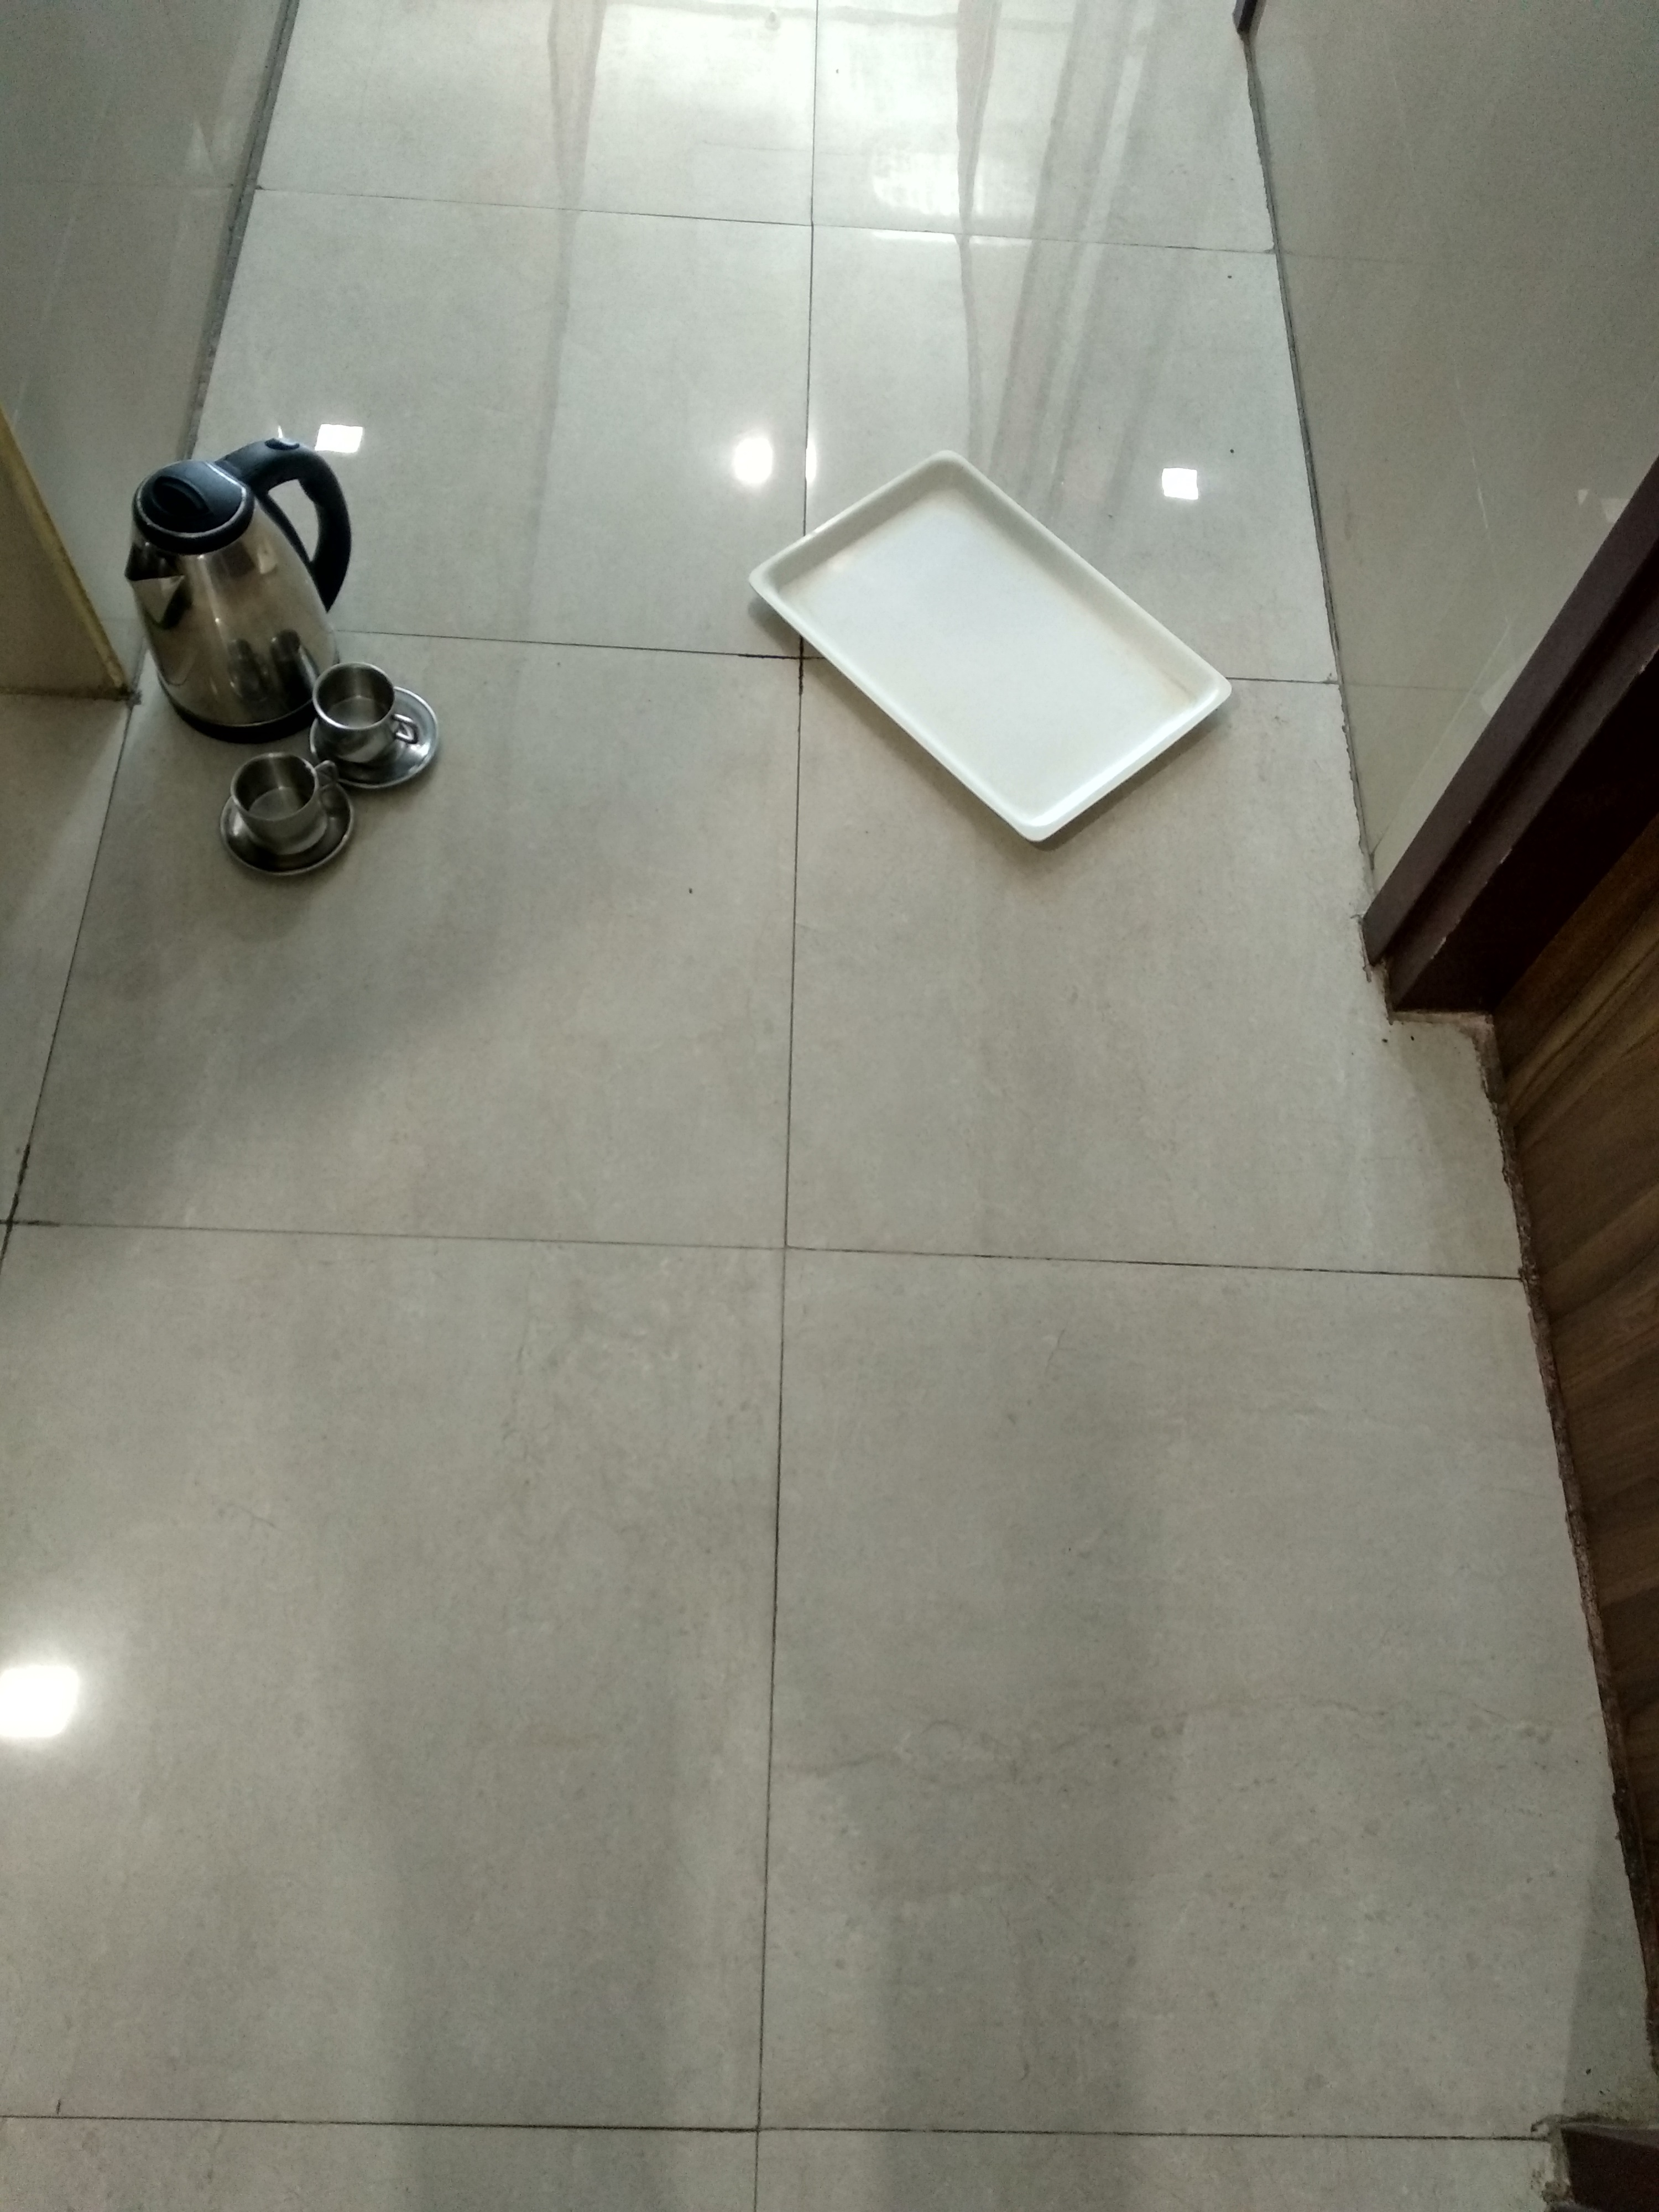CUP: (232, 747, 336, 850), (315, 658, 413, 761)
JUG: (122, 444, 347, 651)
